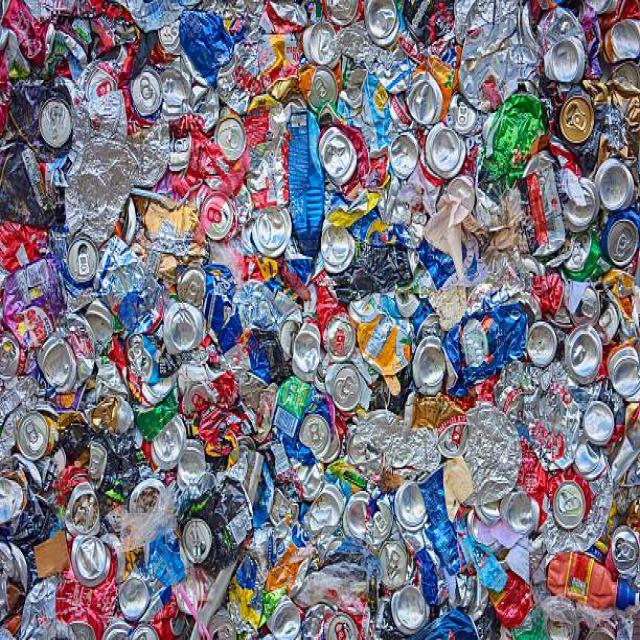metal: (24, 23, 621, 604)
